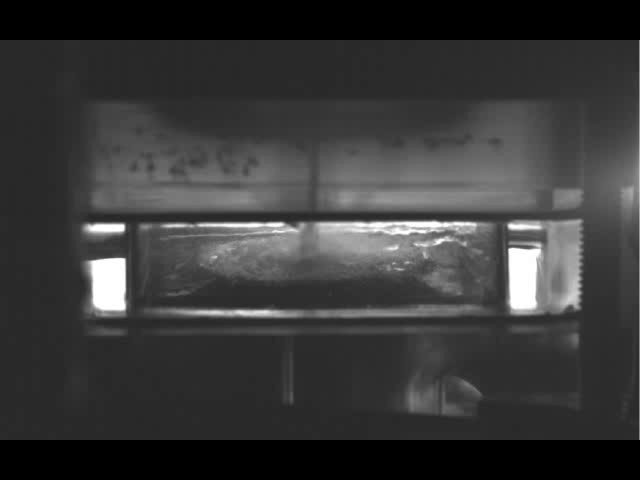Zona de teste: (197, 231, 413, 288)
